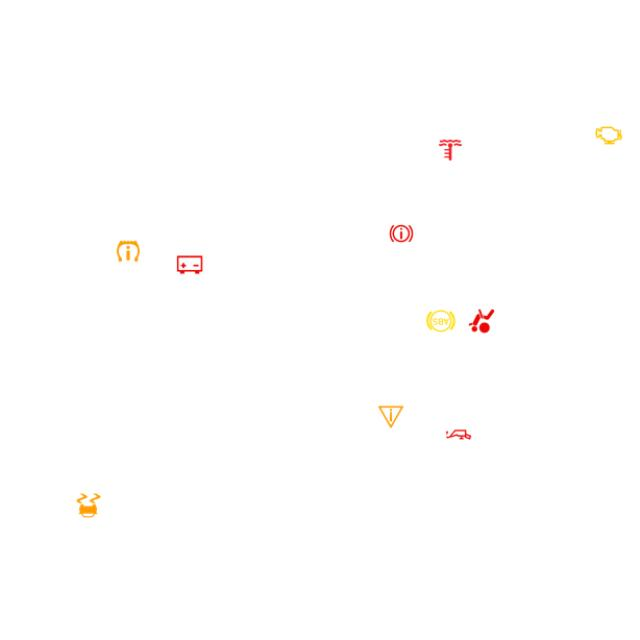Anti Lock Braking System: (425, 305, 457, 337)
Braking System Issue: (386, 218, 417, 249)
Charging System Issue: (174, 249, 205, 281)
Check Engine: (593, 120, 624, 151)
Electronic Stability Problem -ESP-: (73, 490, 104, 521)
Engine Overheating Warning Light: (435, 134, 466, 166)
Low Engine Oil Warning Light: (443, 419, 474, 450)
Low Tire Pressure Warning Light: (112, 235, 144, 267)
Master warning light: (375, 401, 407, 433)
SRS-Airbag: (466, 305, 497, 337)
